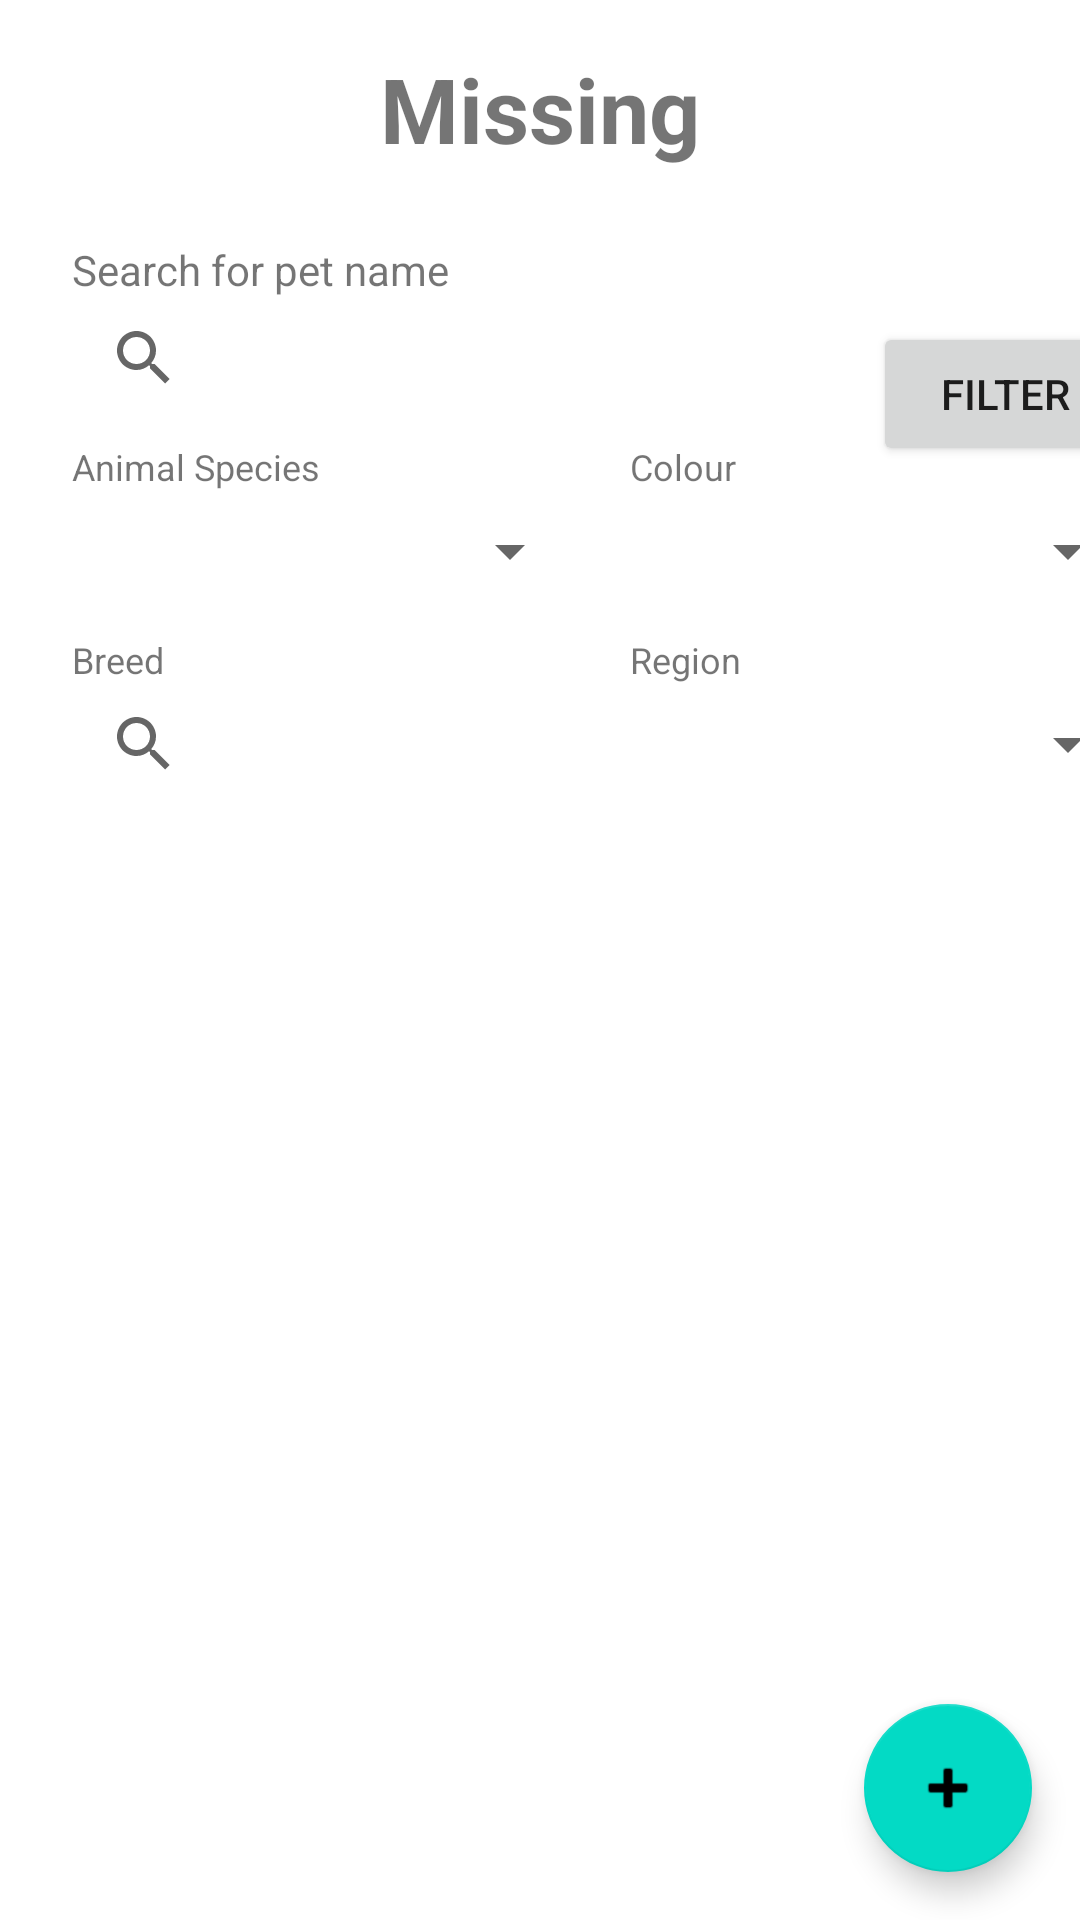

Icons on this 1080 x 1920 Android screen, each with the point to tap as (x,y):
Create missing pet report: (948,1788)
